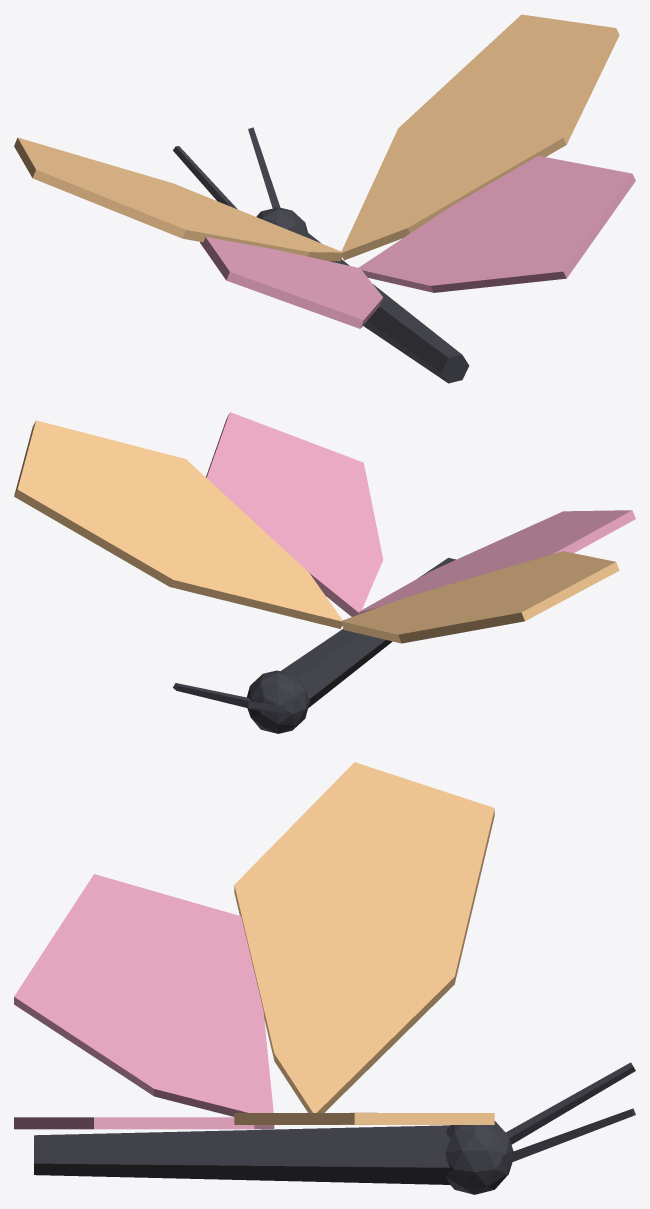
File: deco_butterfly_pink.obj
3 renders of one model, top to bottom at view 1: azimuth 30°, elevation 25°; view 2: azimuth 150°, elevation 25°; view 3: azimuth 270°, elevation 25°, orthographic. The views are drawn at different scales.
Visible parts, largest first — view 1: deco_butterfly_pink; view 2: deco_butterfly_pink; view 3: deco_butterfly_pink.
Part boxes in pixels (left/top/right/bottom): deco_butterfly_pink: left=14, top=14, right=635, bottom=383; deco_butterfly_pink: left=14, top=412, right=635, bottom=733; deco_butterfly_pink: left=14, top=762, right=635, bottom=1194.
Size of the model in its own units: 0.0839 by 0.028 by 0.0621.
Materials: 1 (1 with a texture image).
